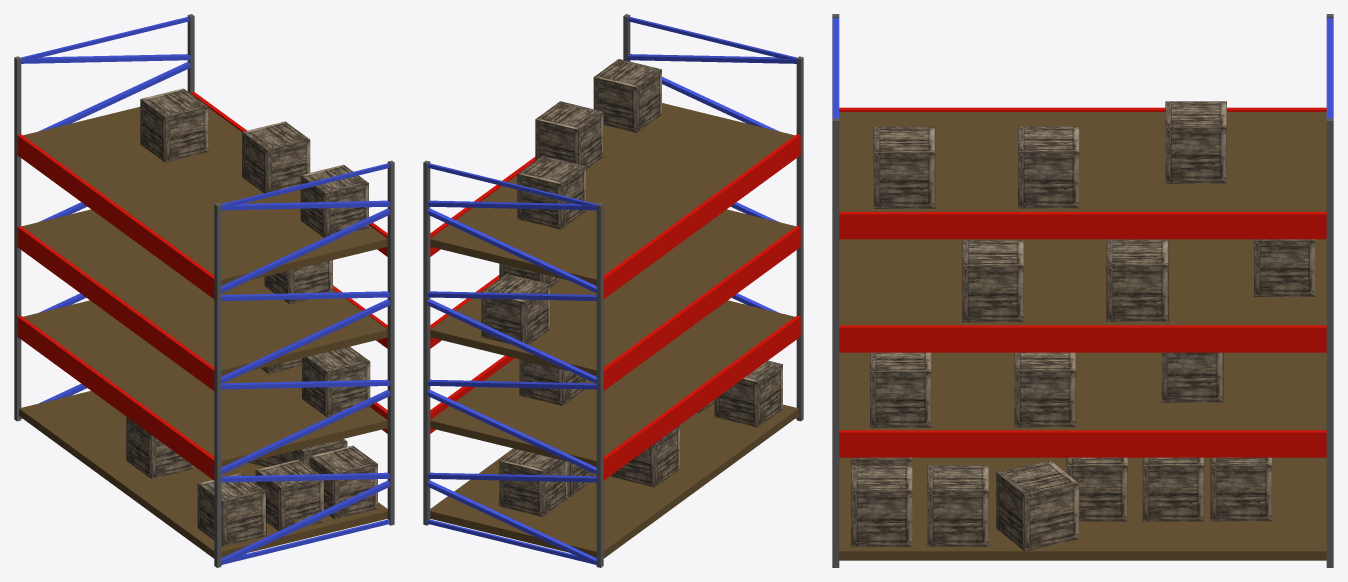
File: cratestorage.fbx
3 renders of one model, left to right at view 1: azimuth 30°, elevation 25°; view 2: azimuth 150°, elevation 25°; view 3: azimuth 270°, elevation 25°, orthographic. The views are drawn at different scales.
Parts seen in each view (by area): view 1: Cube.027, Cube.034, Cube.023, Cube.033, Cube.003; view 2: Cube.027, Cube.034, Cube.033, Cube.023, Cube.003; view 3: Cube.027, Cube.034, Cube.033, Cube.003, Cube.023.
Boxes of the visible parts, <box> form: Cube.027: <box>19,107,387,558</box>; Cube.034: <box>126,88,377,546</box>; Cube.023: <box>21,17,390,565</box>; Cube.033: <box>17,92,387,480</box>; Cube.003: <box>14,14,394,567</box>; Cube.027: <box>430,103,798,558</box>; Cube.034: <box>481,59,782,516</box>; Cube.033: <box>430,134,800,480</box>; Cube.023: <box>427,17,796,565</box>; Cube.003: <box>423,14,803,567</box>; Cube.027: <box>839,112,1326,560</box>; Cube.034: <box>851,101,1315,551</box>; Cube.033: <box>839,107,1326,457</box>; Cube.003: <box>832,14,1333,567</box>; Cube.023: <box>832,18,1333,118</box>.
Size of the model in its own units: 410 by 798 by 811.
